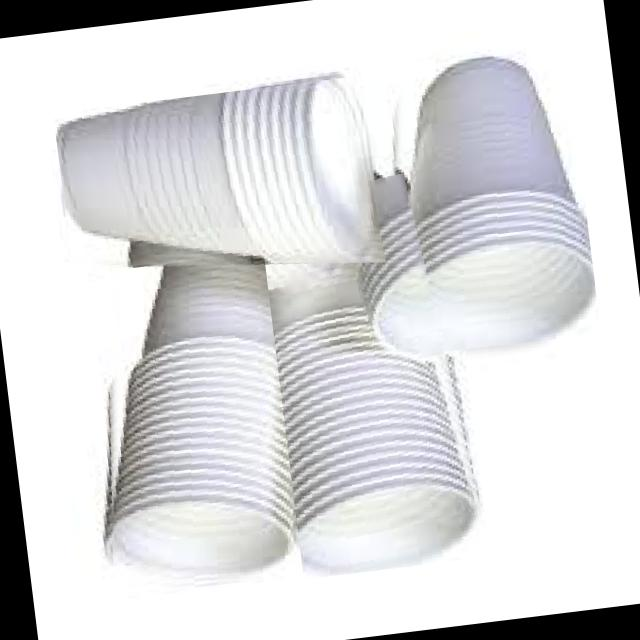PaperCardboard: (266, 187, 478, 575), (397, 50, 594, 352), (111, 257, 292, 582), (54, 78, 369, 262)
